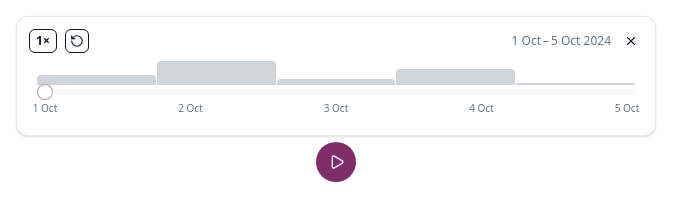
Scenario: TimelineScrubber › switches to Pause button while playing
Click the button named "Play" at (336, 162), box x1=316 y1=142 x2=356 y2=182
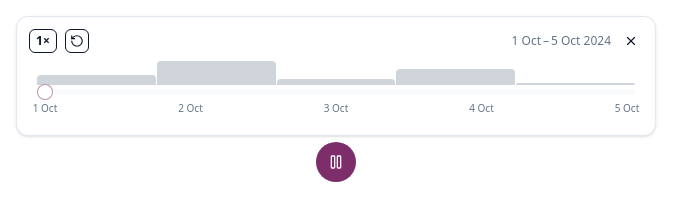
Check: the button named "Pause" is shown, box x1=316 y1=142 x2=356 y2=182
